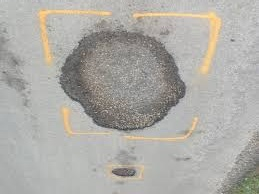pothole: (59, 25, 190, 135), (111, 165, 140, 180)
